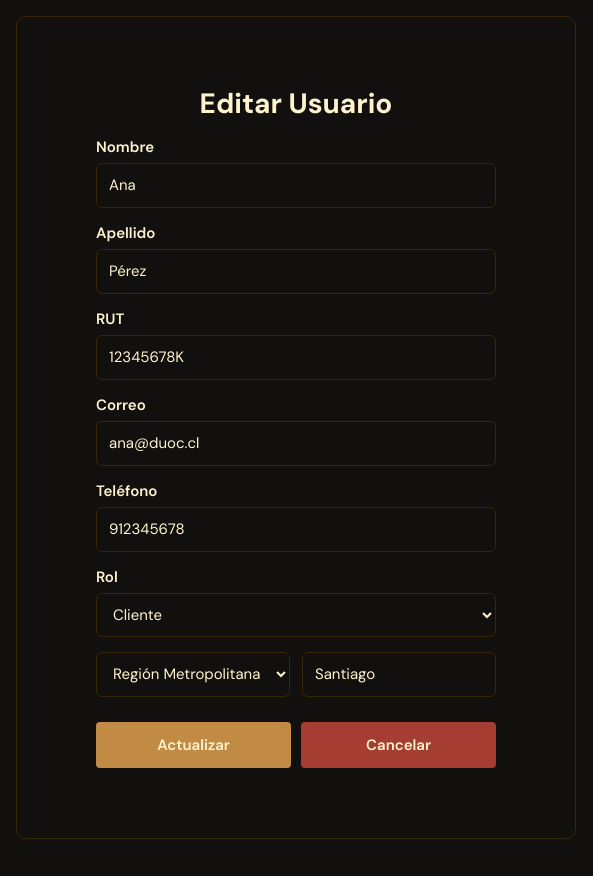
Scenario: Vista EditarUsuario - handleChange y handleSubmit › handleSubmit: muestra el error del servidor y no navega
Check: the 1st field showing "Ana" is shown, box top-left (96, 163), bottom-right (496, 208)
Click the button "Actualizar".
click(194, 745)  # box top-left (96, 722), bottom-right (291, 768)
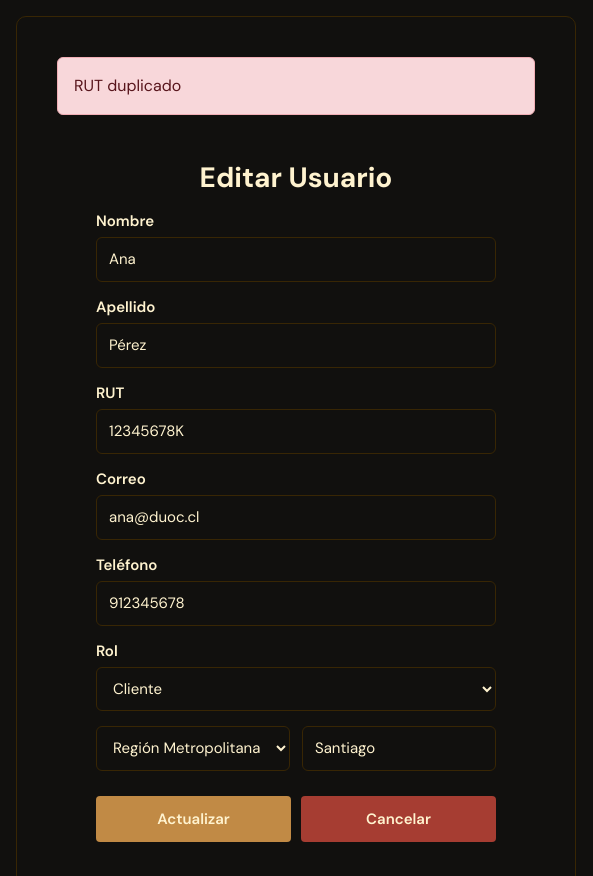
Check: the text "RUT duplicado" is shown, box top-left (57, 57), bottom-right (535, 115)
